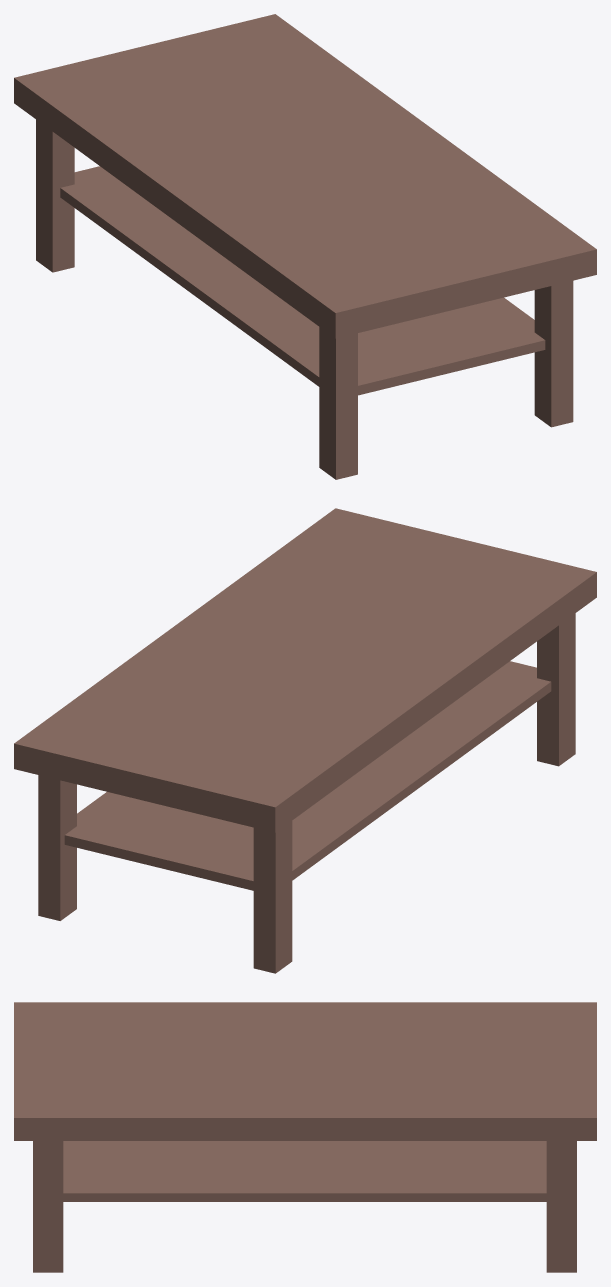
File: table basse.fbx
3 renders of one model, top to bottom at view 1: azimuth 30°, elevation 25°; view 2: azimuth 150°, elevation 25°; view 3: azimuth 270°, elevation 25°, orthographic. The views are drawn at different scales.
Parts seen in each view (by area): view 1: Cube.001; view 2: Cube.001; view 3: Cube.001.
Boxes of the visible parts, bbox=[...] form: Cube.001: bbox=[14, 14, 596, 479]; Cube.001: bbox=[14, 508, 596, 973]; Cube.001: bbox=[14, 1002, 596, 1272].
Bounding box in the file's own units: 412 × 267 × 878.
